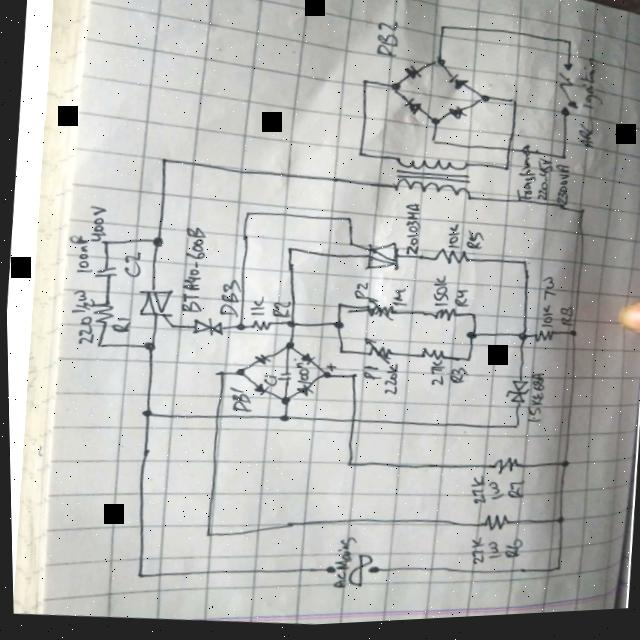capacitor: (91, 264, 118, 279), (272, 372, 291, 385)
crossover: (205, 409, 229, 426), (340, 415, 363, 432), (498, 146, 520, 162)
diode: (188, 316, 224, 339), (499, 383, 529, 409), (447, 76, 469, 95), (401, 99, 420, 119), (400, 67, 422, 84), (445, 109, 467, 124), (296, 353, 316, 368), (292, 385, 313, 399), (251, 384, 268, 399), (251, 355, 269, 367)
junction: (149, 237, 162, 249), (132, 571, 146, 582), (199, 530, 214, 540), (551, 520, 566, 530), (330, 322, 345, 332), (342, 242, 357, 252), (352, 152, 367, 162), (138, 409, 152, 419), (141, 341, 155, 351), (91, 340, 105, 350), (212, 371, 226, 381), (275, 397, 289, 407), (281, 343, 295, 353), (343, 374, 357, 384), (508, 426, 522, 436), (563, 333, 577, 343), (458, 359, 472, 369), (462, 334, 476, 344), (333, 349, 347, 359), (516, 263, 530, 273), (340, 216, 354, 226), (241, 210, 255, 220), (165, 322, 179, 332), (96, 238, 110, 248), (157, 156, 171, 166), (425, 140, 439, 150), (554, 157, 568, 167), (436, 27, 450, 37), (477, 98, 491, 108), (387, 85, 401, 95), (432, 62, 447, 71), (427, 121, 442, 130), (231, 369, 245, 378), (282, 323, 296, 332), (317, 373, 331, 382), (342, 462, 356, 471), (548, 569, 562, 578), (556, 465, 570, 474), (515, 337, 529, 346), (464, 314, 478, 323), (332, 303, 346, 312), (570, 212, 584, 221), (282, 247, 296, 256), (231, 324, 245, 333), (498, 169, 512, 178), (561, 43, 575, 52), (506, 101, 520, 110), (359, 81, 373, 90)
resistor: (358, 338, 395, 370), (360, 298, 396, 326), (429, 249, 471, 271), (485, 458, 518, 483), (86, 299, 116, 326), (476, 515, 507, 537), (428, 310, 457, 327), (416, 350, 444, 365), (530, 333, 554, 350), (247, 320, 270, 335)
terminal: (363, 566, 381, 579), (553, 110, 572, 122), (317, 566, 335, 578), (558, 64, 576, 76)
text: (511, 147, 573, 212), (62, 202, 110, 276), (572, 61, 607, 155), (175, 225, 207, 315), (64, 287, 98, 347), (464, 538, 522, 573), (467, 476, 523, 512), (327, 537, 357, 594), (357, 363, 398, 402), (428, 276, 468, 313), (424, 361, 469, 393), (397, 204, 422, 259), (443, 226, 484, 256), (522, 376, 545, 428), (535, 281, 558, 333), (247, 295, 291, 322), (372, 22, 400, 61), (216, 281, 242, 320), (223, 387, 251, 416), (119, 249, 141, 279), (289, 364, 311, 387), (109, 315, 134, 334), (555, 310, 574, 332), (388, 289, 407, 311), (351, 284, 369, 303), (260, 375, 278, 389)
thyristor: (132, 287, 174, 325), (357, 242, 400, 277)
transformer: (385, 156, 476, 208)
